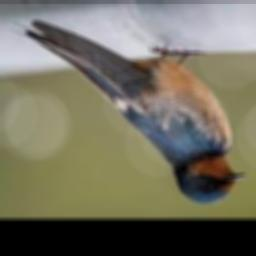Swallow: (11, 20, 244, 205)
